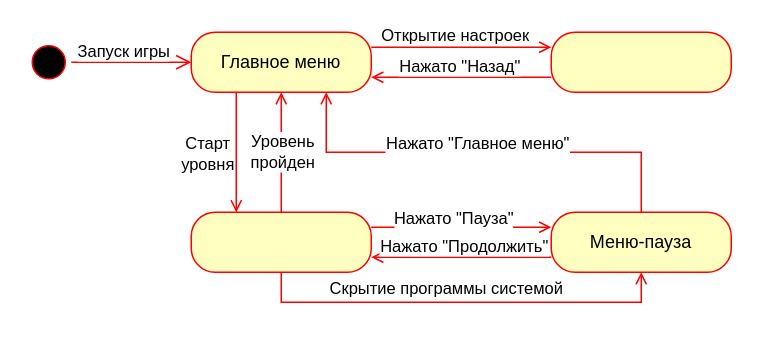
Some shapes in this 758 by 341 pixel diagram are drawn without their labels. Each missing label, with the box of its shape:
Интерфейс уровня: (190, 211, 371, 272)
Настройки: (550, 31, 731, 92)
